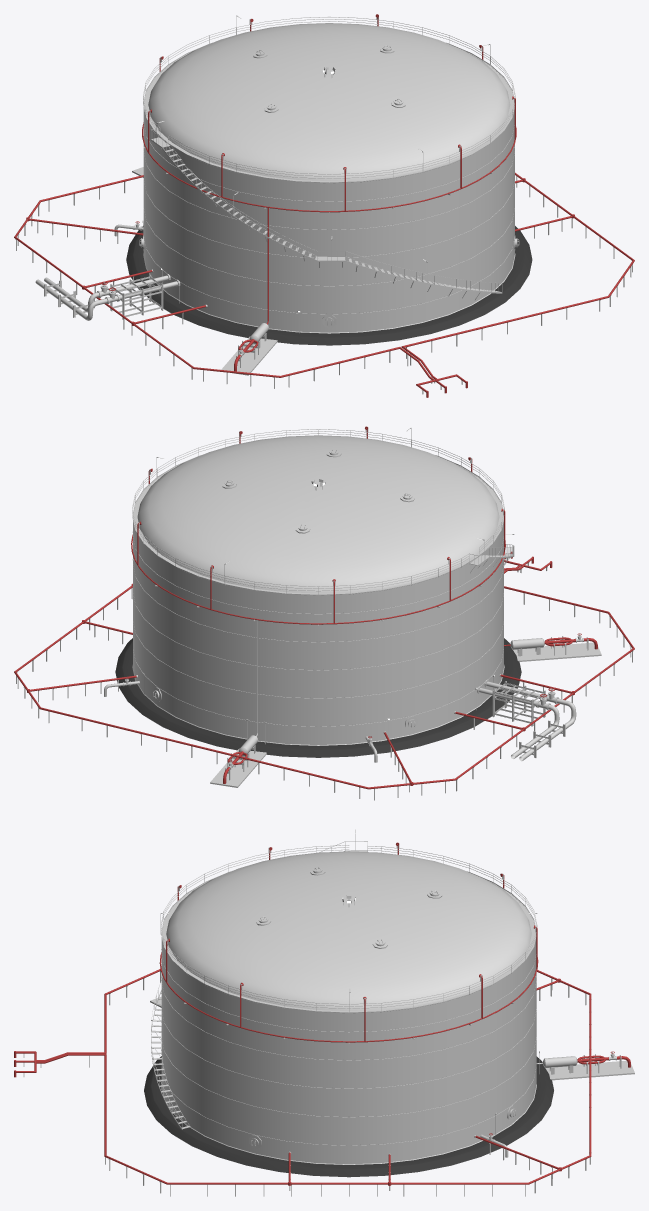
Rendered from oil_storage_fixed.glb.
3 renders of one model, top to bottom at view 1: azimuth 30°, elevation 25°; view 2: azimuth 150°, elevation 25°; view 3: azimuth 270°, elevation 25°, orthographic.
Visible parts, largest first — view 1: Oil storage tank 5_white_0, Oil storage tank 5_black _0, Oil storage tank 5_red_0; view 2: Oil storage tank 5_white_0, Oil storage tank 5_black _0, Oil storage tank 5_red_0; view 3: Oil storage tank 5_white_0, Oil storage tank 5_black _0, Oil storage tank 5_red_0.
Part boxes in pixels (x1,y1,x2,y2): Oil storage tank 5_white_0: [15, 14, 632, 394]; Oil storage tank 5_black _0: [126, 44, 532, 345]; Oil storage tank 5_red_0: [14, 14, 634, 397]; Oil storage tank 5_white_0: [16, 426, 633, 800]; Oil storage tank 5_black _0: [115, 428, 521, 757]; Oil storage tank 5_red_0: [14, 426, 634, 789]; Oil storage tank 5_white_0: [23, 829, 634, 1196]; Oil storage tank 5_black _0: [144, 897, 553, 1177]; Oil storage tank 5_red_0: [14, 842, 630, 1185].
Bounding box in the file's own units: 25.07 × 9.77 × 28.55.
